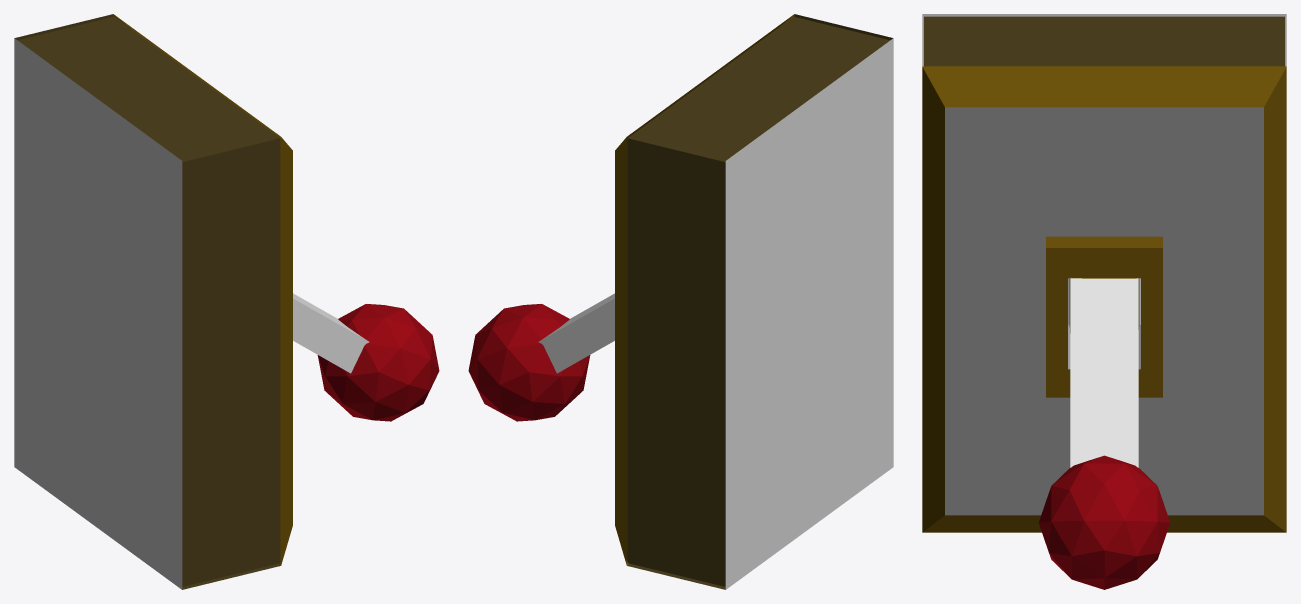
File: palanca.fbx
The picture shows the model from 3 angles, left to right: view 1: azimuth 30°, elevation 25°; view 2: azimuth 150°, elevation 25°; view 3: azimuth 270°, elevation 25°; orthographic projection. The views are drawn at different scales.
Parts seen in each view (by area): view 1: Cube, Cube.001; view 2: Cube, Cube.001; view 3: Cube, Cube.001.
Part boxes in pixels (x1,y1,x2,y2): Cube: (14, 14, 292, 589); Cube.001: (293, 293, 439, 421); Cube: (615, 14, 893, 589); Cube.001: (468, 293, 614, 421); Cube: (922, 14, 1286, 532); Cube.001: (1038, 278, 1170, 589).
Bounding box in the file's own units: 163 × 200 × 142.
